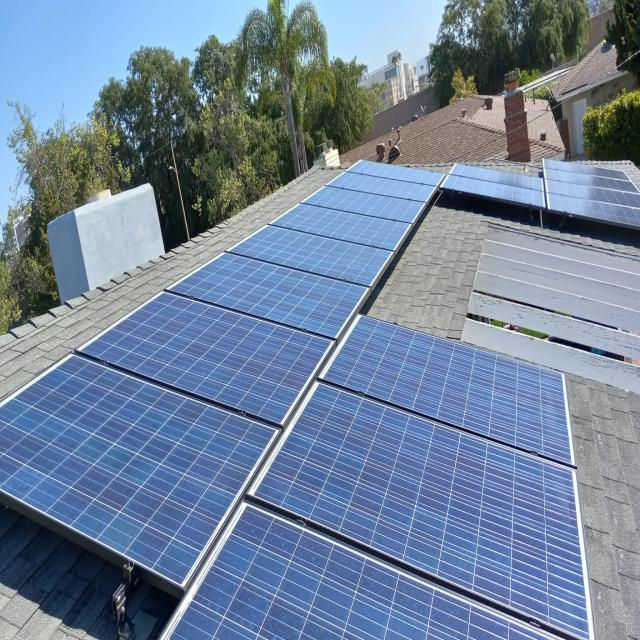clean-solar-panel: (0, 162, 440, 589), (166, 316, 594, 640)
